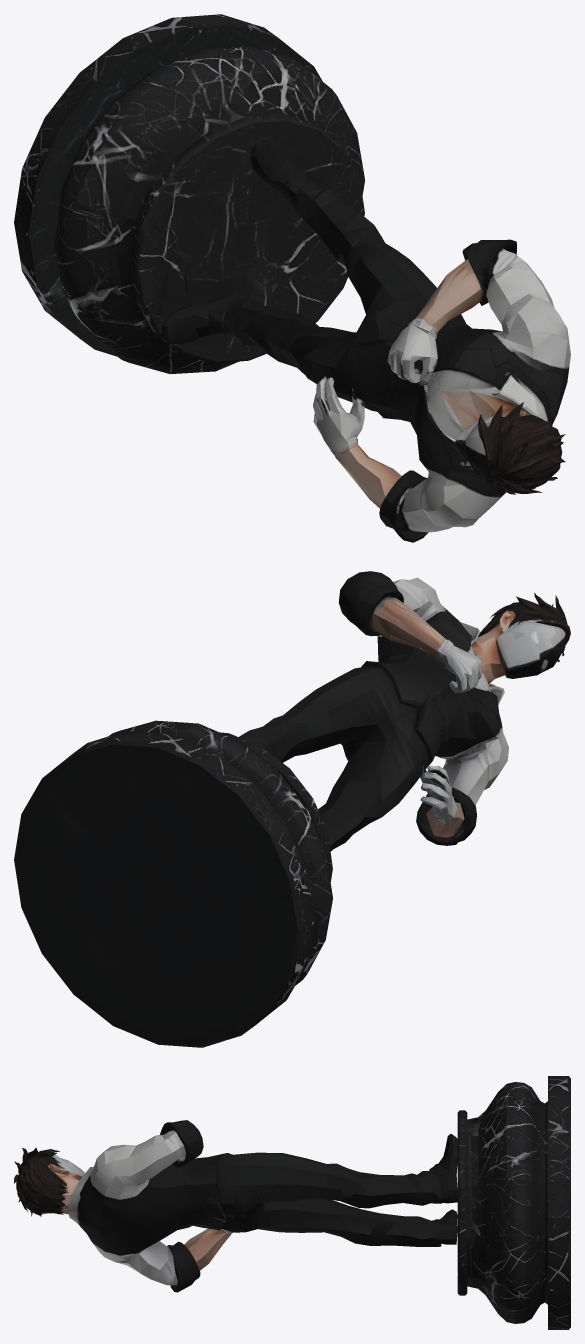
The model's file is king.obj.
3 renders of one model, top to bottom at view 1: azimuth 30°, elevation 25°; view 2: azimuth 150°, elevation 25°; view 3: azimuth 270°, elevation 25°, orthographic. The views are drawn at different scales.
Visible parts, largest first — view 1: king; view 2: king; view 3: king.
Part boxes in pixels (x1=…): king: x1=14, y1=14, x2=570, y2=542; king: x1=14, y1=571, x2=570, y2=1047; king: x1=14, y1=1076, x2=570, y2=1329.
Size of the model in its own units: 1.7 by 1.7 by 3.69.
Materials: 1 (1 with a texture image).
